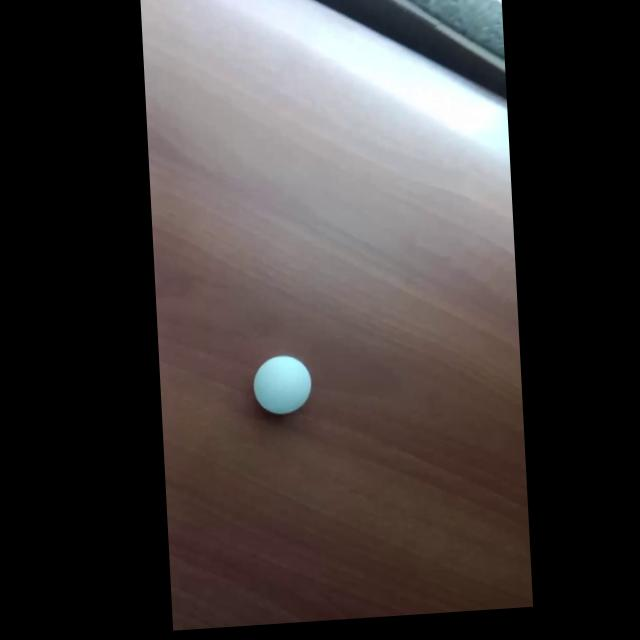white ball: (251, 353, 312, 417)
